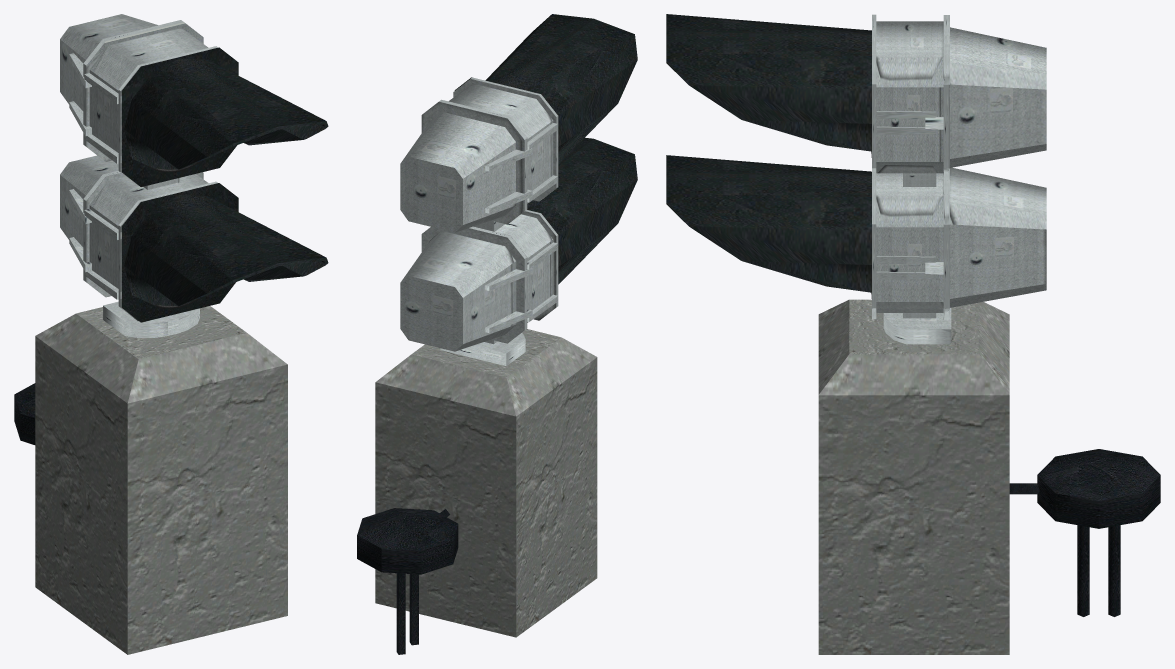
The model's file is turntable.obj.
3 renders of one model, left to right at view 1: azimuth 30°, elevation 25°; view 2: azimuth 150°, elevation 25°; view 3: azimuth 270°, elevation 25°, orthographic. The views are drawn at different scales.
Parts seen in each view (by area): view 1: Body_0_Signal; view 2: Body_0_Signal; view 3: Body_0_Signal.
Part boxes in pixels (x1=…): Body_0_Signal: x1=14, y1=14, x2=328, y2=654; Body_0_Signal: x1=357, y1=14, x2=637, y2=654; Body_0_Signal: x1=666, y1=14, x2=1160, y2=654.
Bounding box in the file's own units: 0.31 × 1.04 × 0.8019.
Materials: 3 (3 with a texture image).
